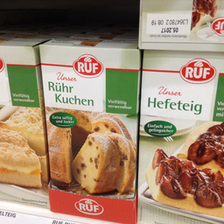cake: (38, 37, 140, 218), (142, 42, 224, 218)
